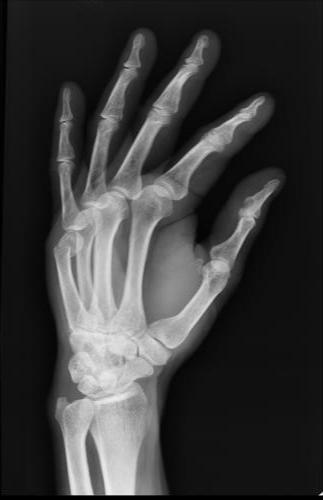fracture: (52, 243, 79, 261)
